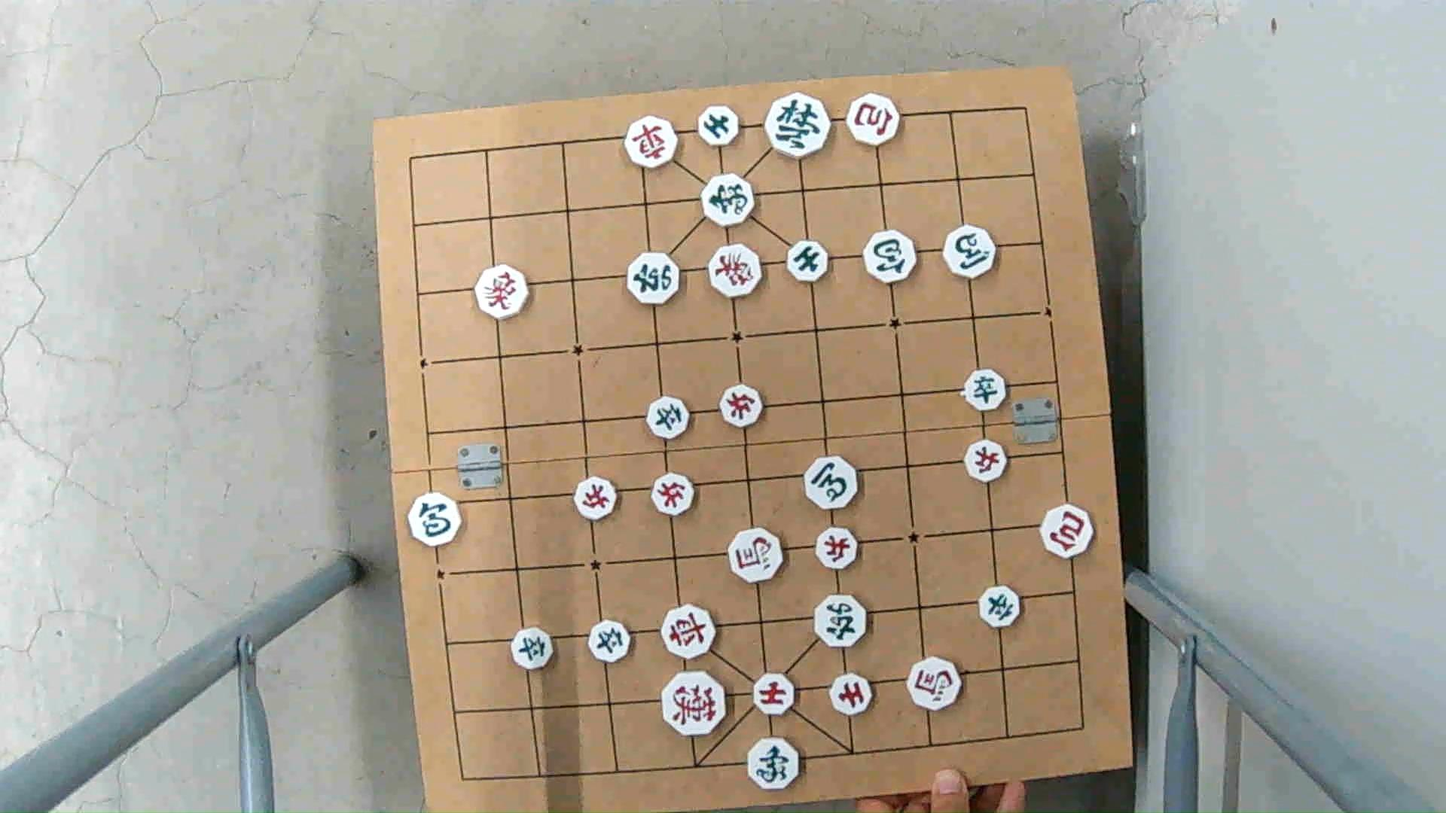cha_green: (810, 598, 868, 649), (626, 251, 678, 306)
cha_red: (660, 603, 715, 662), (625, 118, 682, 166)
jol_green: (647, 397, 690, 440), (587, 623, 633, 662), (961, 373, 1009, 410), (510, 629, 553, 670), (975, 586, 1020, 625)
jol_red: (574, 480, 620, 519), (648, 476, 694, 515), (963, 442, 1010, 480), (718, 388, 763, 427), (813, 529, 858, 568)
ma_green: (803, 456, 860, 506), (941, 227, 996, 276)
ma_red: (728, 527, 784, 586), (905, 659, 962, 707)
po_green: (862, 231, 920, 281), (405, 498, 464, 545)
po_red: (846, 95, 904, 144), (1039, 507, 1097, 555)
sa_green: (786, 239, 831, 279), (697, 108, 741, 146)
sa_red: (752, 674, 799, 713), (825, 675, 871, 714)
sang_green: (743, 739, 801, 787), (700, 175, 755, 224)
sang_red: (475, 266, 530, 324), (707, 244, 761, 300)
wang_green: (765, 93, 831, 160)
wang_red: (658, 676, 728, 734)
